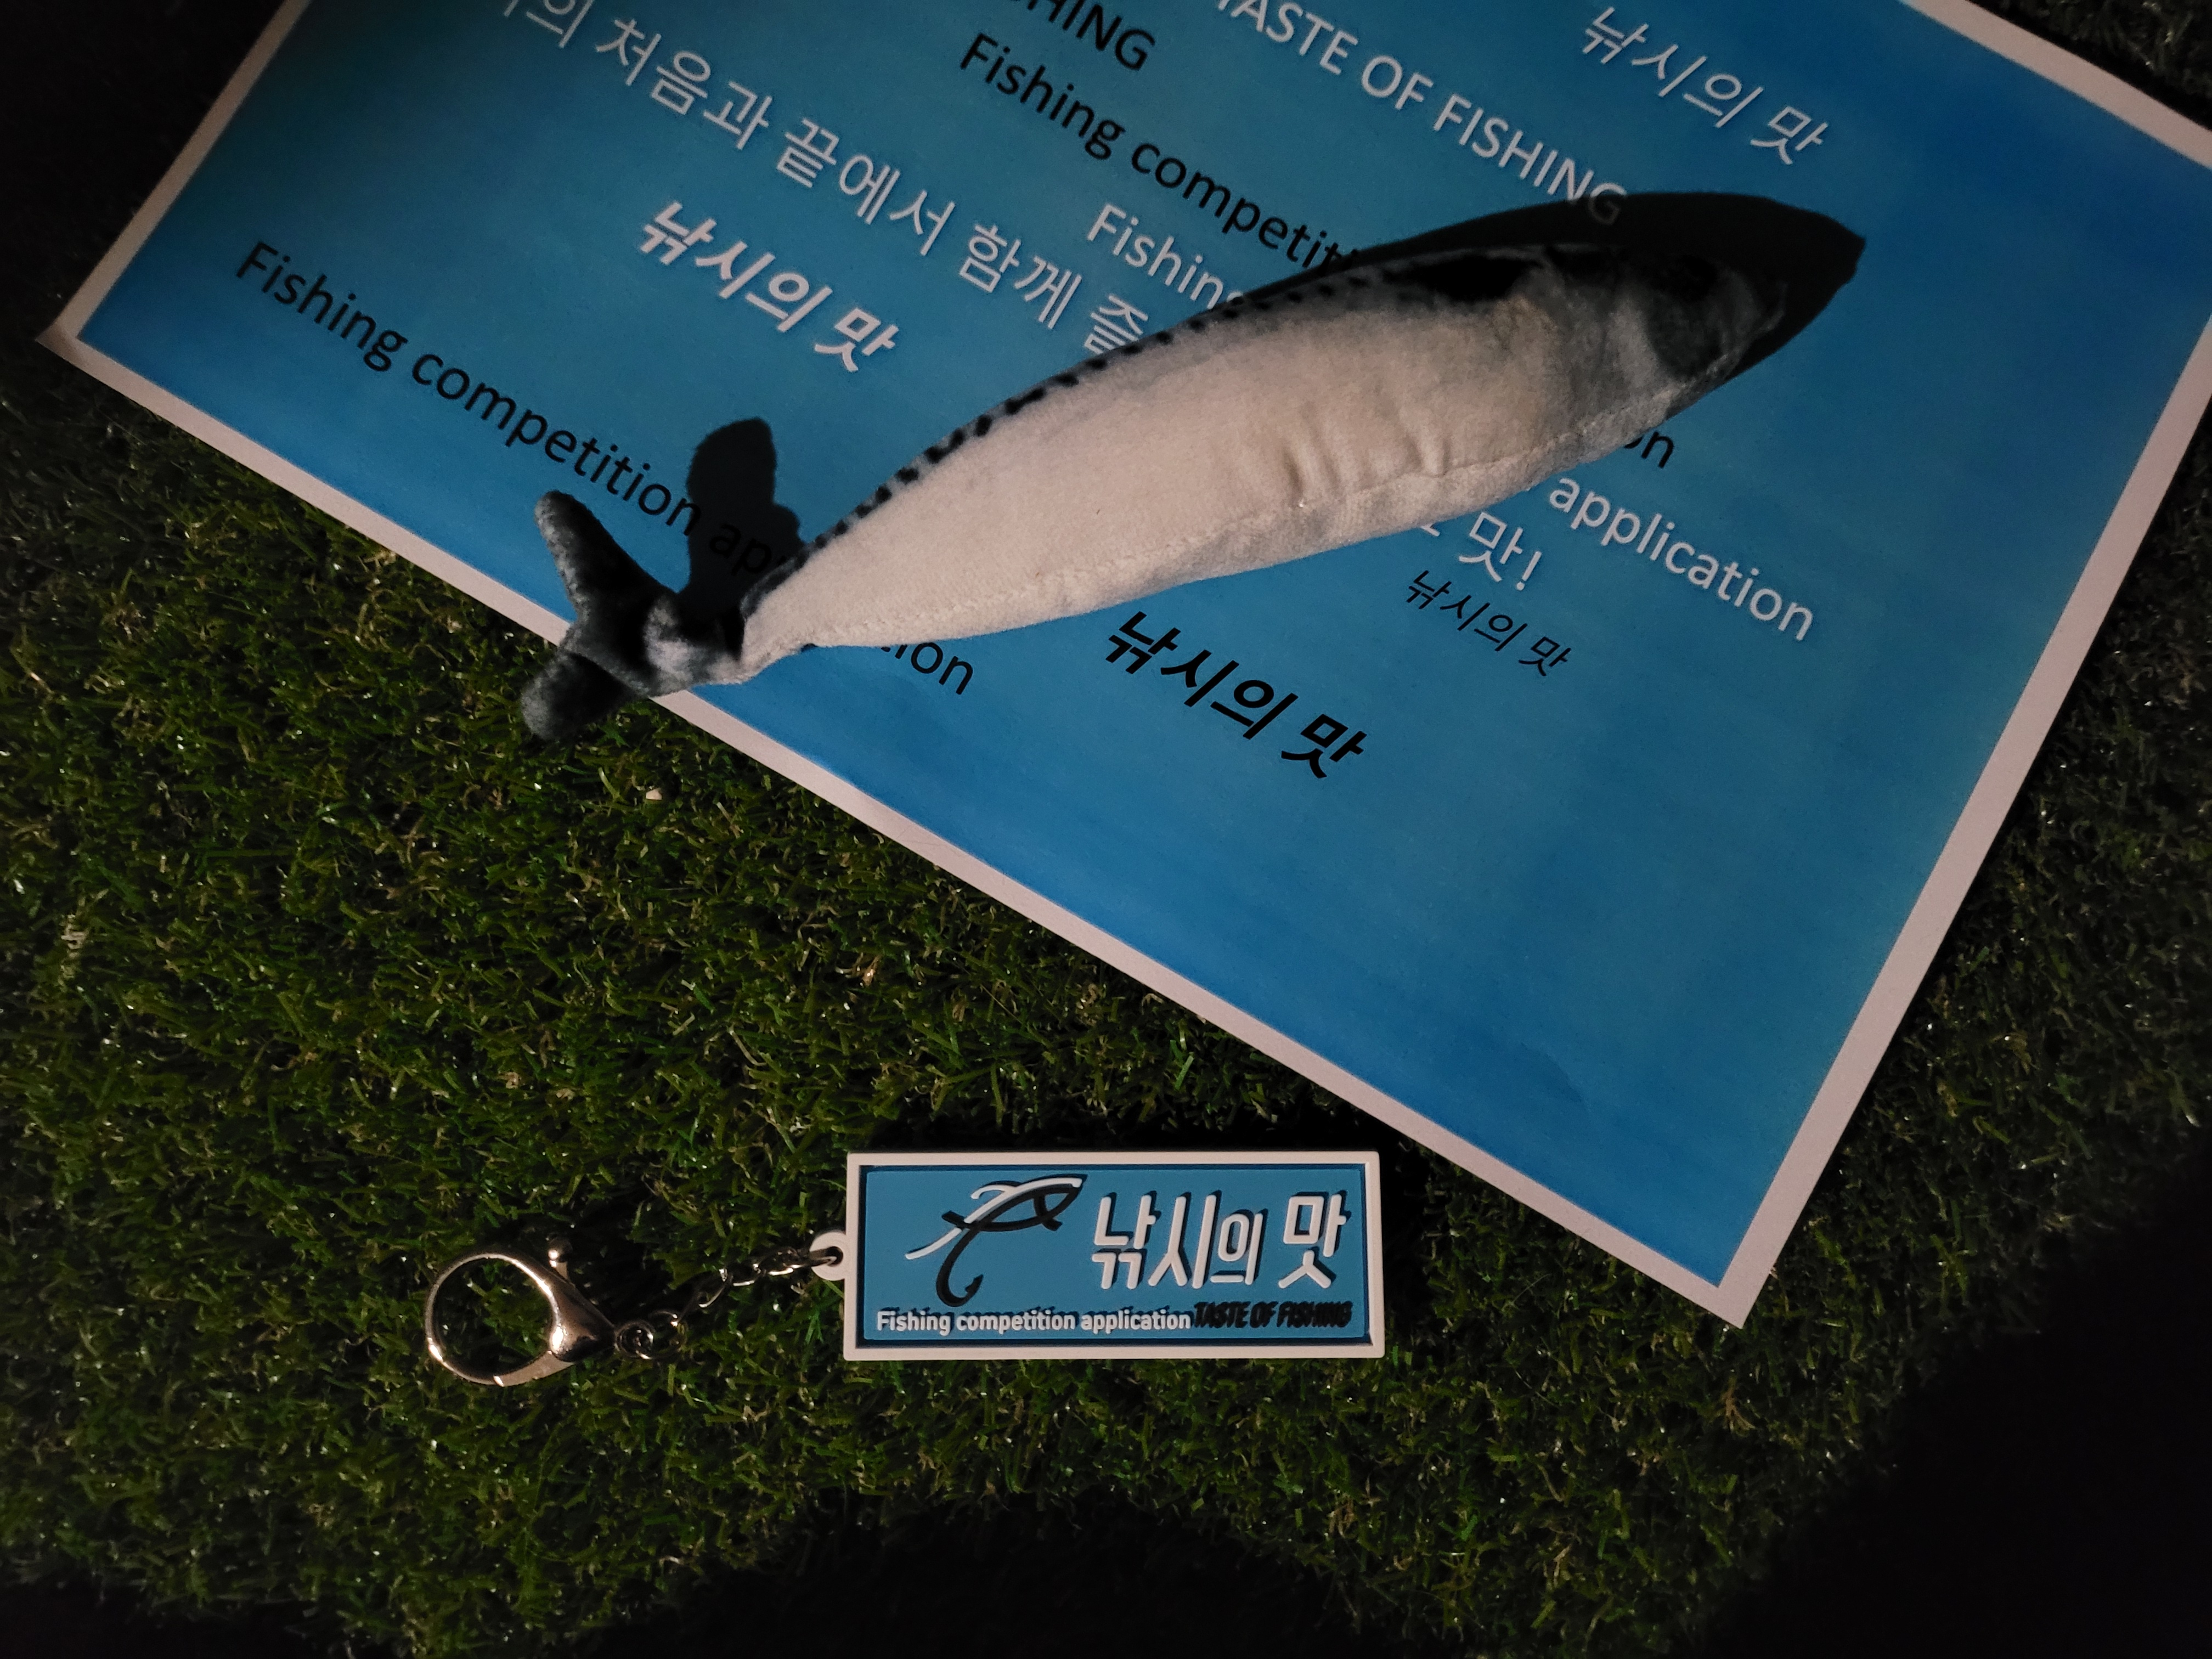fish: (521, 242, 1785, 742)
tag: (841, 1148, 1385, 1359)
